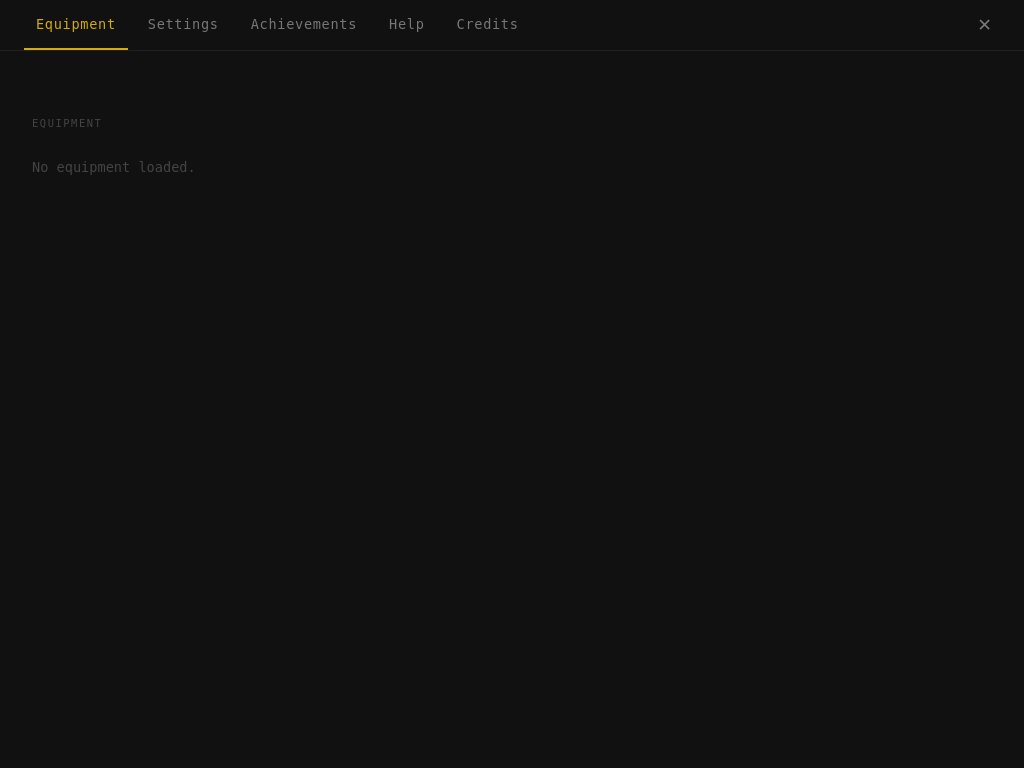
Test case: CharacterScreen › the Credits tab is there with no run going, and shows the credits panel
Click the button with class "tab-btn" showing "Credits": (488, 25) [444,0,531,50]
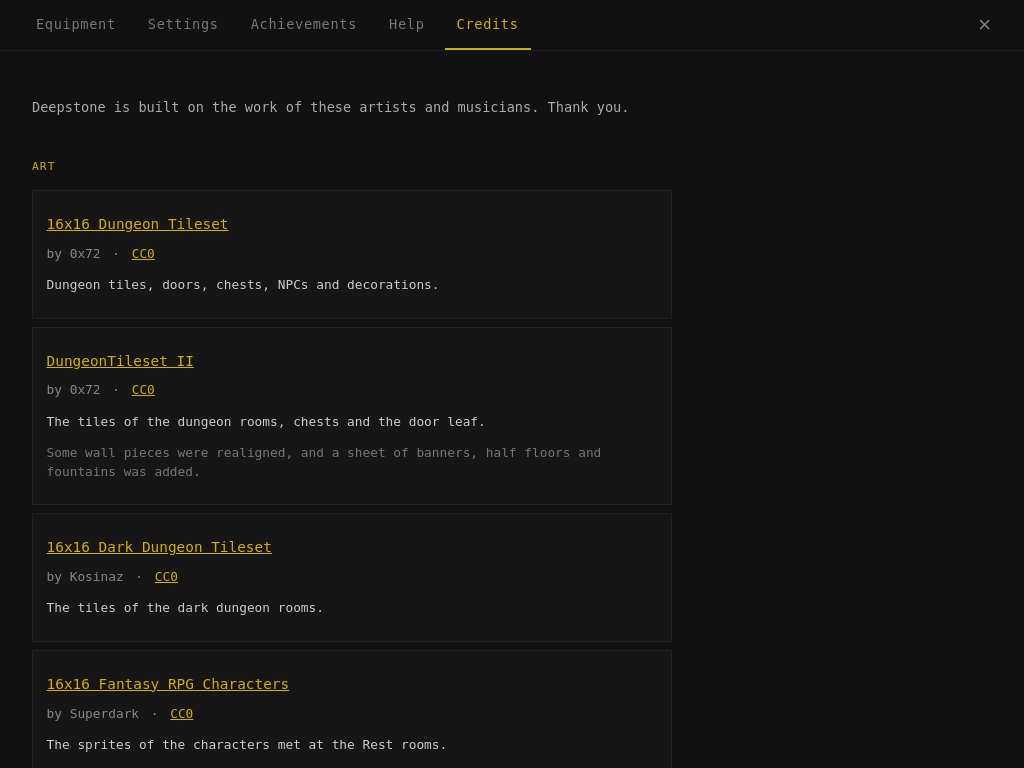
Result: the element with class "equipment-panel" is gone
